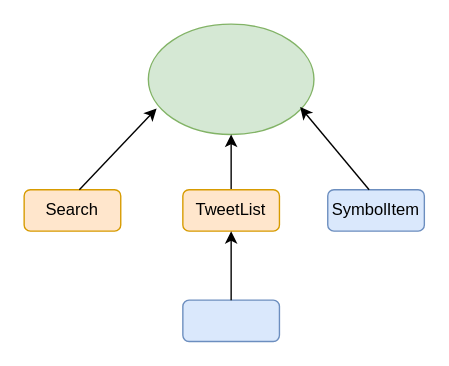
This 449x366 diagram has some shape labels left out. The centre of each missing label's shape, as x and y in pixels:
"App" belongs at point 230,79.
"TweetItem" belongs at point 230,320.
